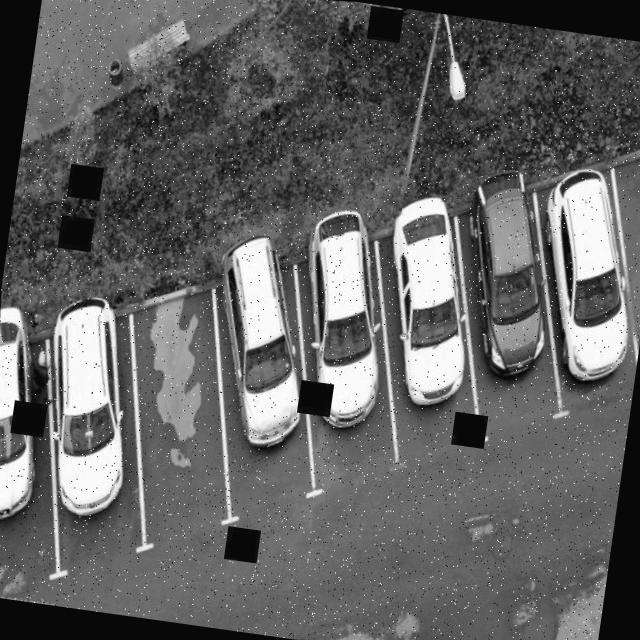car: (2, 284, 194, 579), (340, 200, 523, 470), (419, 177, 597, 447), (181, 255, 357, 527), (257, 226, 435, 491), (501, 160, 640, 417), (0, 306, 100, 605)
free: (90, 280, 272, 546)
